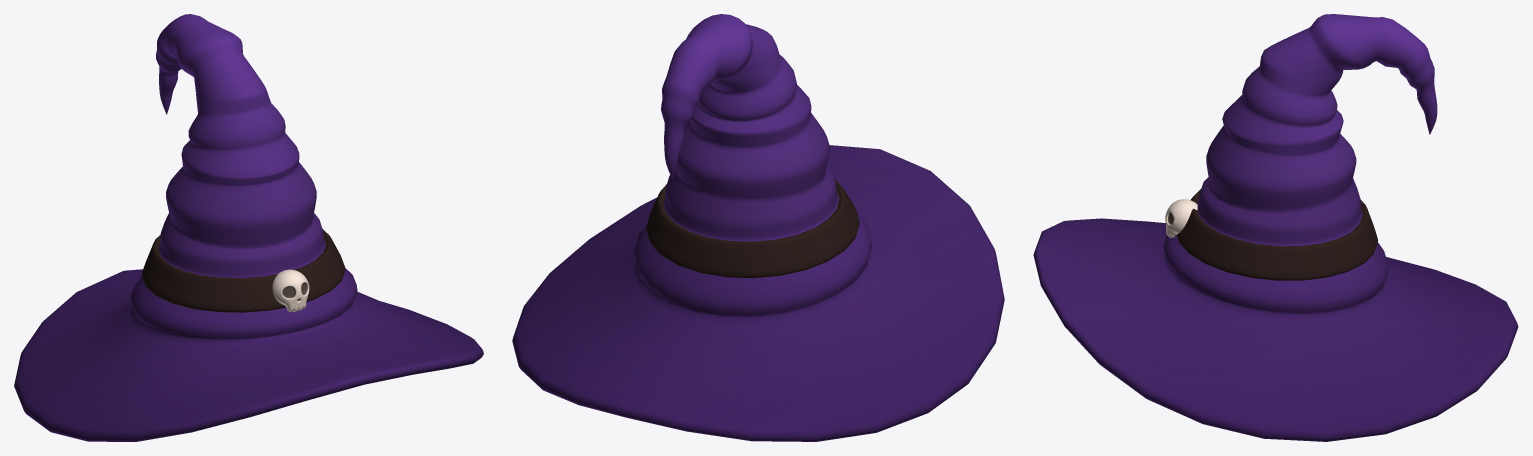
Rendered from WitchHat.fbx.
3 renders of one model, left to right at view 1: azimuth 30°, elevation 25°; view 2: azimuth 150°, elevation 25°; view 3: azimuth 270°, elevation 25°, orthographic. The views are drawn at different scales.
Visible parts, largest first — view 1: WitchHat; view 2: WitchHat; view 3: WitchHat.
Part boxes in pixels (x1,y1,x2,y2): WitchHat: (14, 14, 483, 441); WitchHat: (512, 14, 1004, 441); WitchHat: (1033, 14, 1518, 441).
Bounding box in the file's own units: 64.5 × 51.13 × 67.55.
